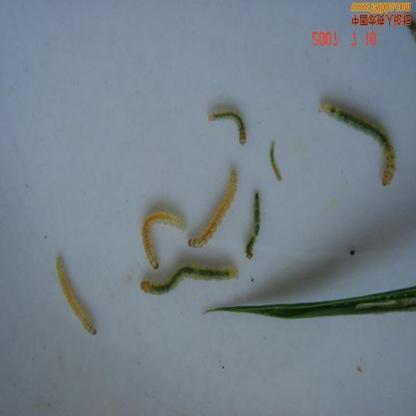leaf-folder: (315, 96, 406, 190), (39, 249, 113, 350), (132, 254, 242, 304), (186, 161, 242, 250), (238, 171, 278, 262), (139, 206, 187, 265), (202, 103, 256, 147), (264, 137, 290, 185)
